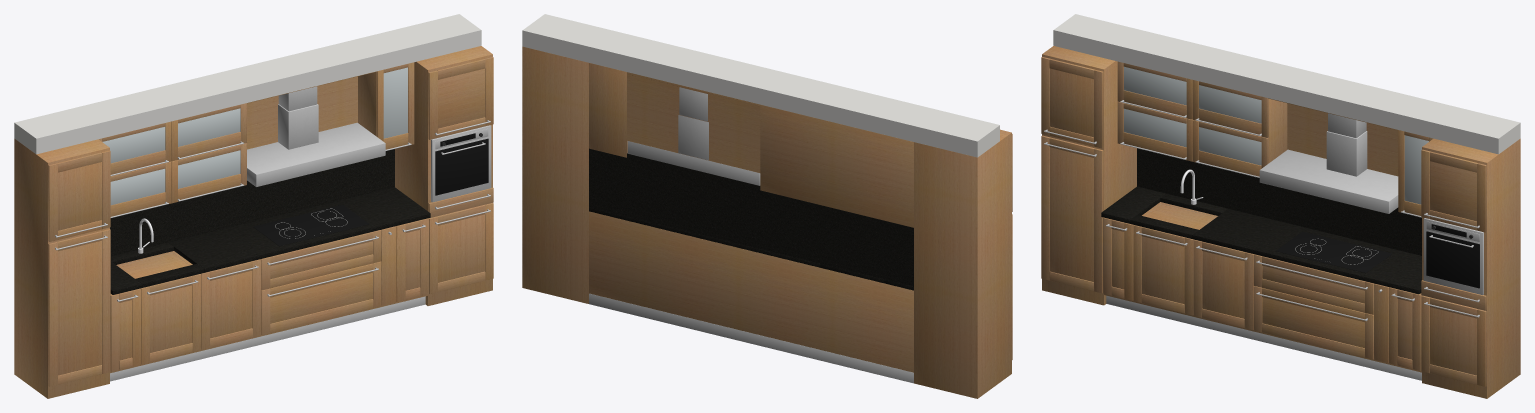
File: recI5M4XGmHyhm9W6.glb
The picture shows the model from 3 angles, left to right: view 1: azimuth 30°, elevation 25°; view 2: azimuth 150°, elevation 25°; view 3: azimuth 330°, elevation 25°; orthographic projection. The views are drawn at different scales.
Parts seen in each view (by area): view 1: Cuisine_Meubles_Electromenager; view 2: Cuisine_Meubles_Electromenager; view 3: Cuisine_Meubles_Electromenager.
Part boxes in pixels (bbox=[...]): Cuisine_Meubles_Electromenager: bbox=[14, 14, 493, 398]; Cuisine_Meubles_Electromenager: bbox=[522, 14, 1012, 398]; Cuisine_Meubles_Electromenager: bbox=[1041, 14, 1520, 398].
Size of the model in its own units: 4.44 by 2.4 by 0.6441.
Materials: 10 (3 with a texture image).
